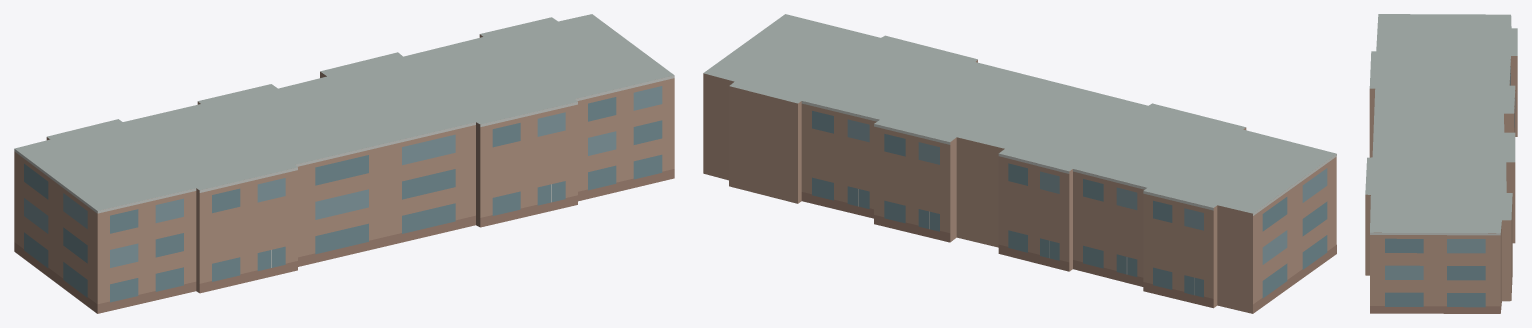
Rendered from survey-upis-32887150.glb.
3 views of the same model, side by side, from view 1: azimuth 30°, elevation 25°; view 2: azimuth 150°, elevation 25°; view 3: azimuth 270°, elevation 25° (orthographic). The views are drawn at different scales.
Visible parts, largest first — view 1: survey-upis-32887150.tmp; view 2: survey-upis-32887150.tmp; view 3: survey-upis-32887150.tmp.
Boxes of the visible parts, <box> form: survey-upis-32887150.tmp: <box>14,14,674,313</box>; survey-upis-32887150.tmp: <box>703,14,1336,313</box>; survey-upis-32887150.tmp: <box>1365,14,1517,313</box>.
Bounding box in the file's own units: 53.24 × 9.15 × 15.66.
